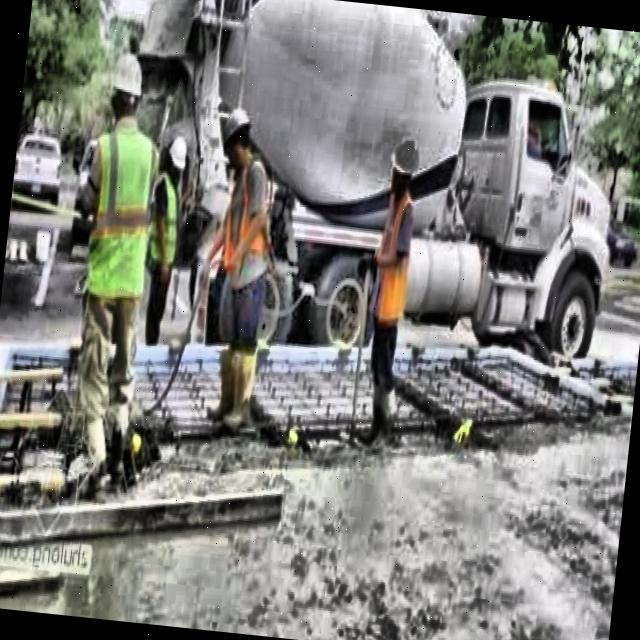helmet: (102, 42, 148, 126), (216, 100, 258, 180), (384, 136, 420, 198), (157, 130, 191, 194)
